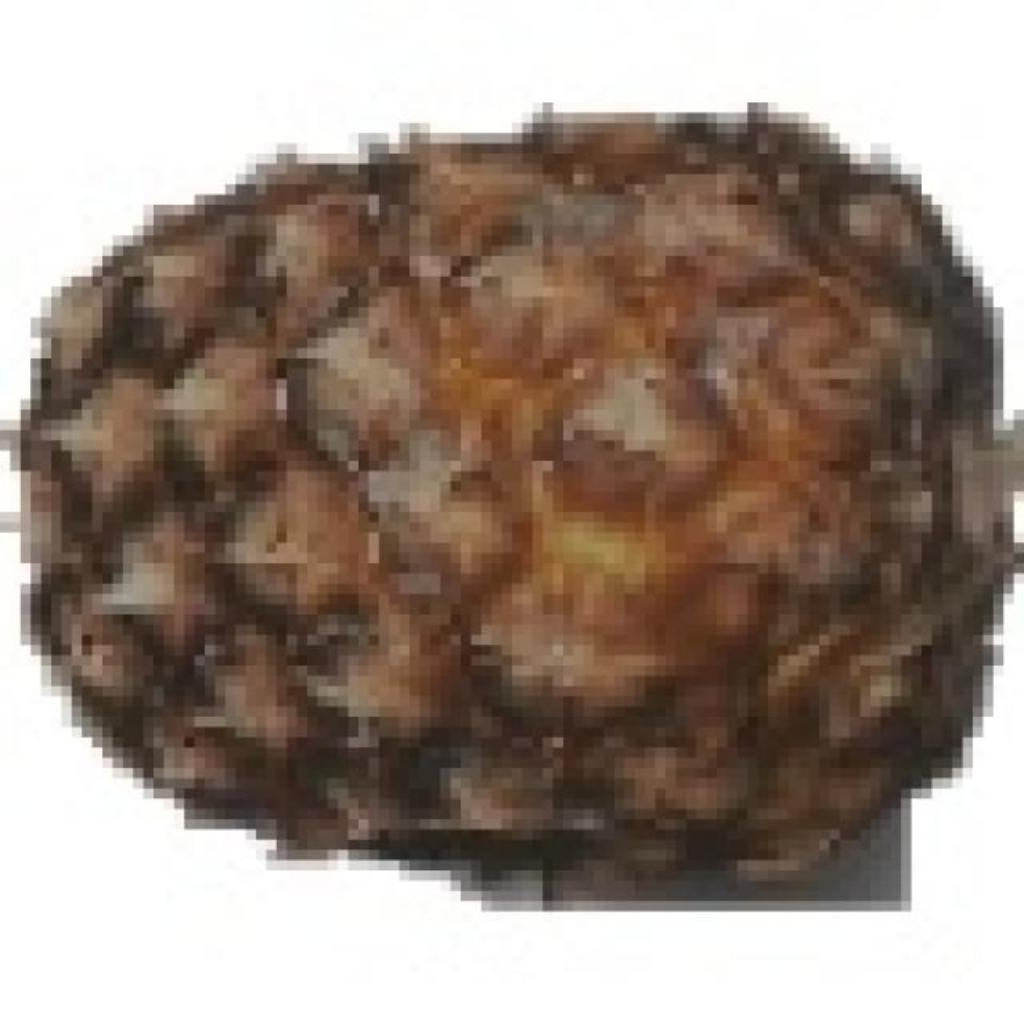pineapple: (10, 102, 983, 881)
